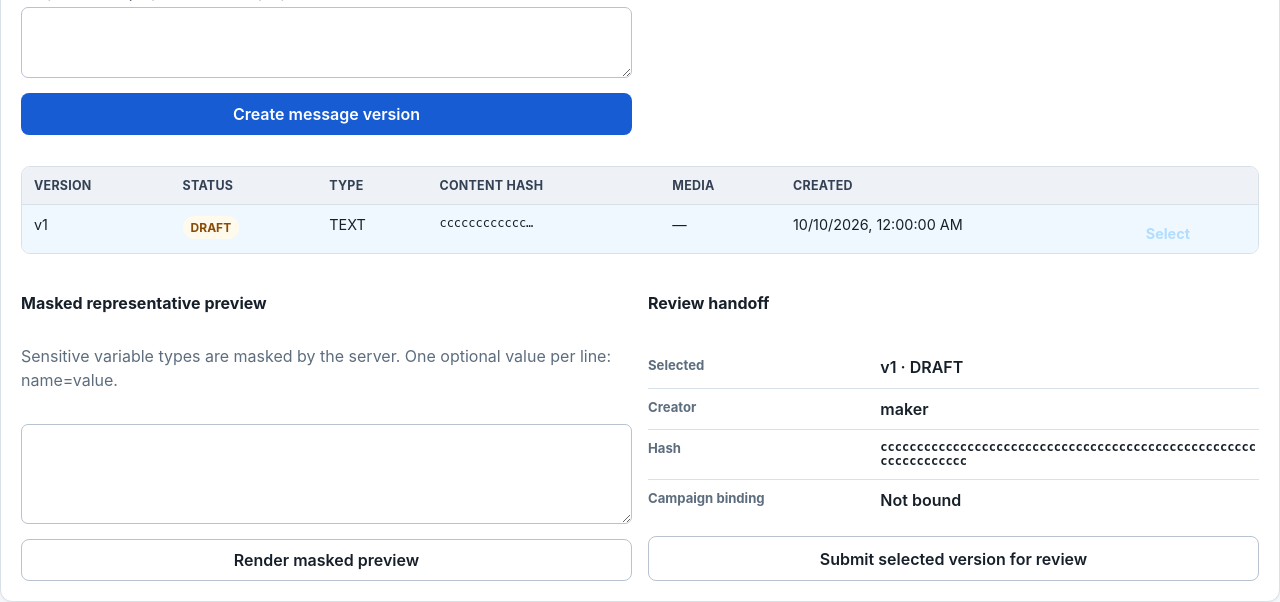
it: renders a server-masked preview and submits the selected draft for independent review
(page scrolled)
Expected: the text "v1" is shown, [22, 204, 171, 253]
Click the button "Render masked preview" at (326, 560), box [21, 539, 632, 581]
(page scrolled)
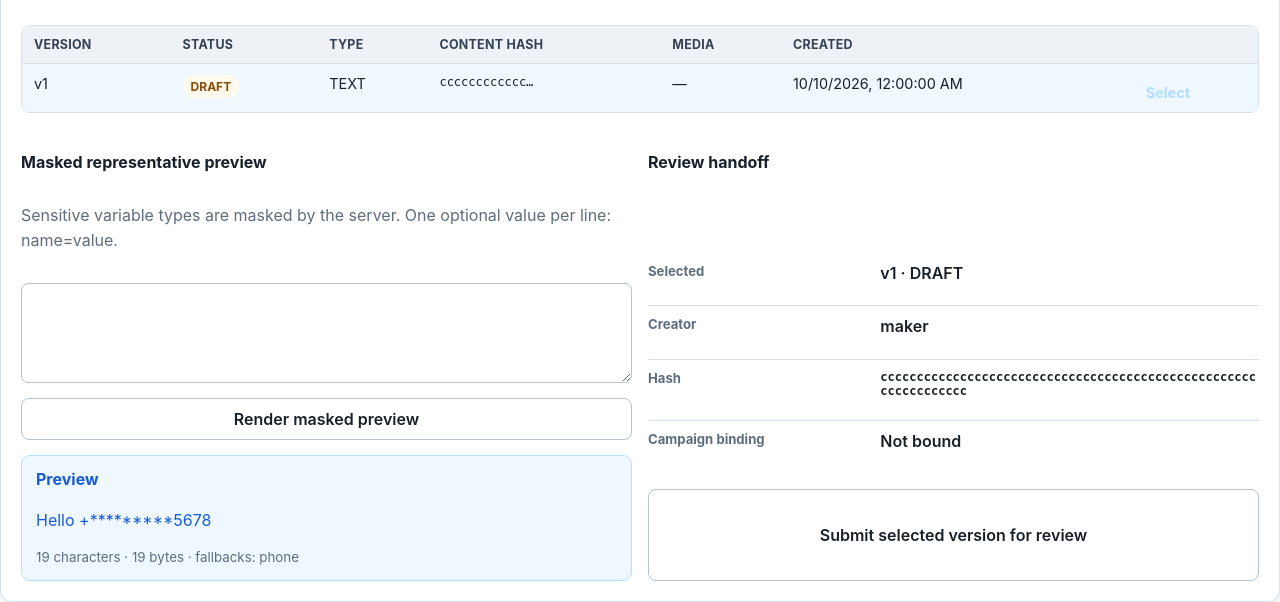
Expected: the text "Hello +*********5678" is shown, [36, 510, 212, 530]
Click the button "Submit selected version for review" at (954, 535), box [648, 489, 1259, 581]
(page scrolled)
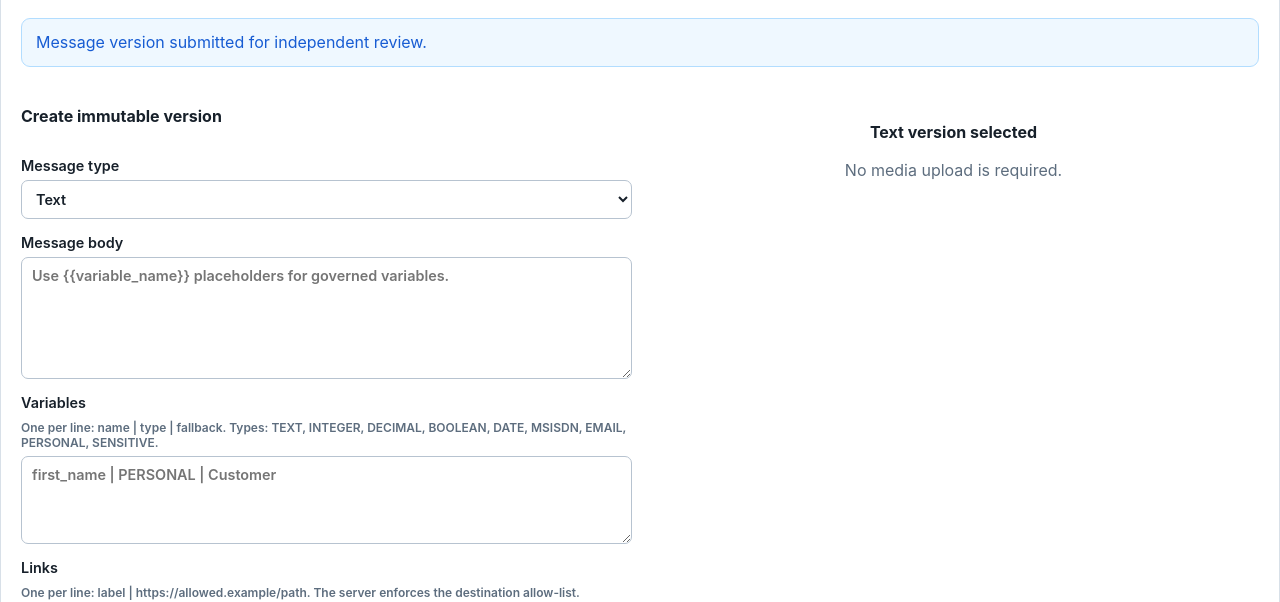
Expected: the text "Message version submitted for independent review." is shown, [21, 18, 1259, 67]
